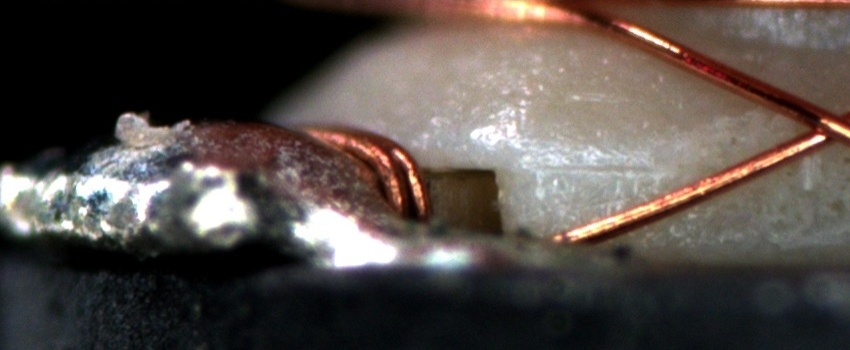CL: (778, 94, 848, 157)
DL: (536, 137, 667, 201)
TE: (304, 119, 442, 231)
